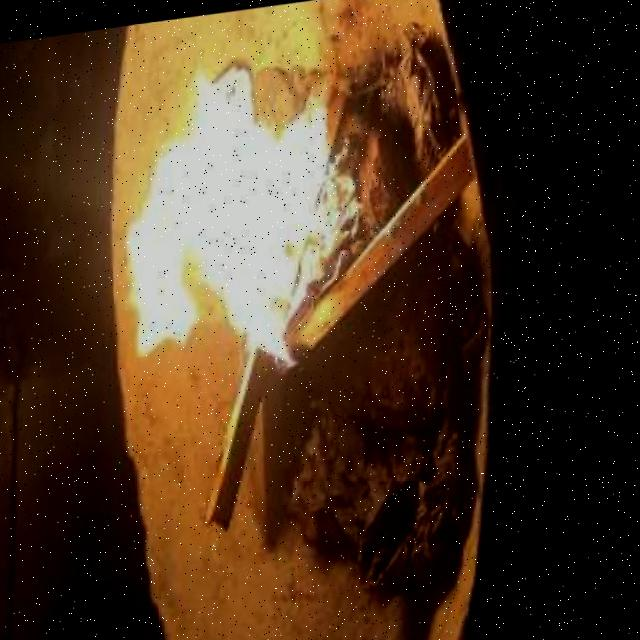fire: (129, 44, 334, 372)
